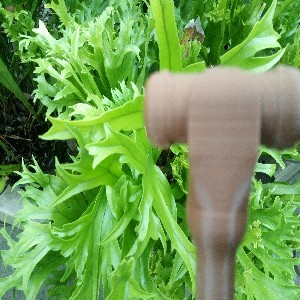palu: (143, 64, 300, 300)
